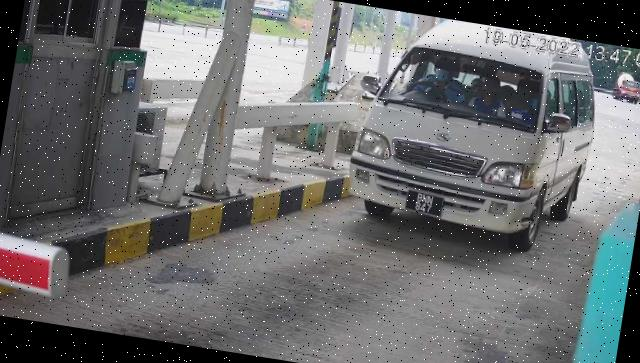License_Plate: (404, 188, 448, 220)
van: (342, 8, 610, 260)
